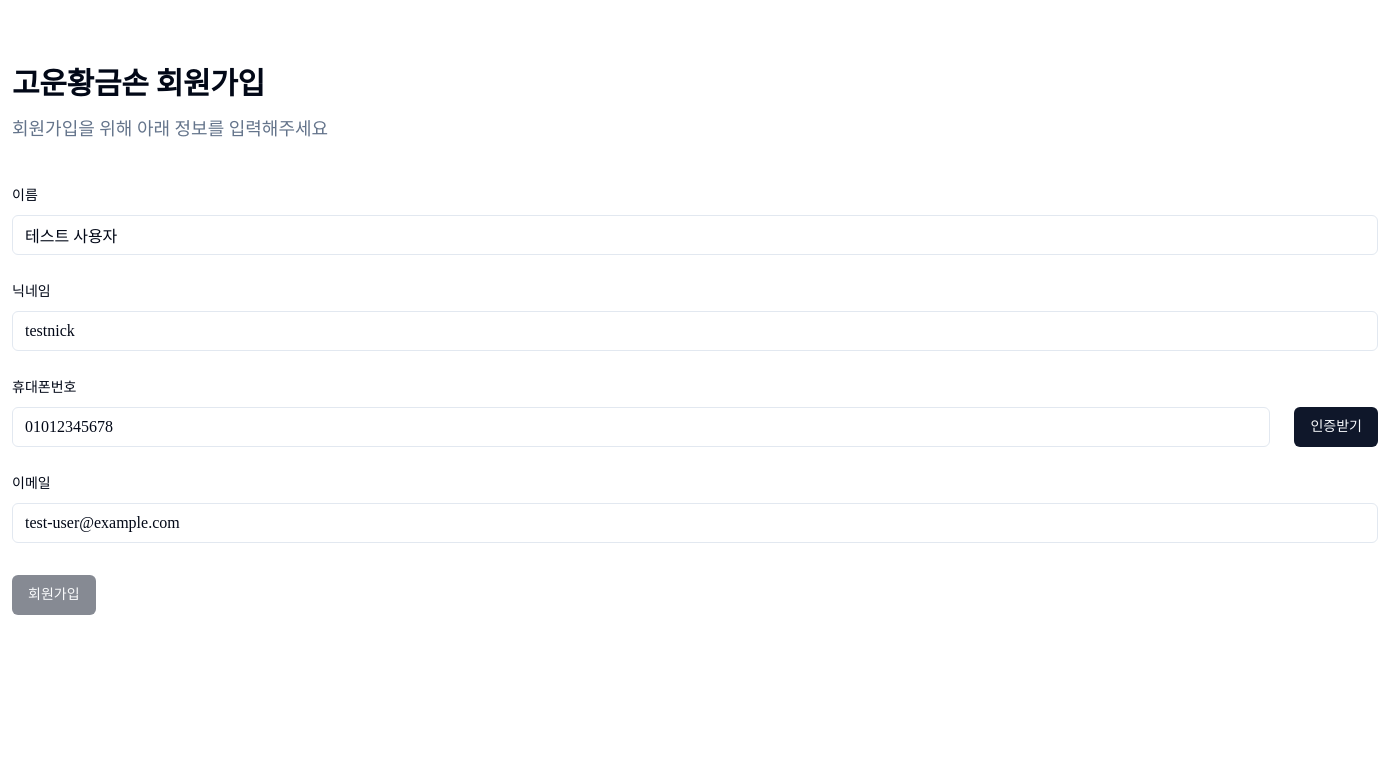
Scenario: SignupPage 컴포넌트 테스트 › [휴대폰인증] 인증코드가 6자리가 아닐 때 에러 메시지 노출
The width and height of the screenshot is (1390, 768).
Click the button "인증받기": click(1336, 427) [1294, 407, 1378, 447]
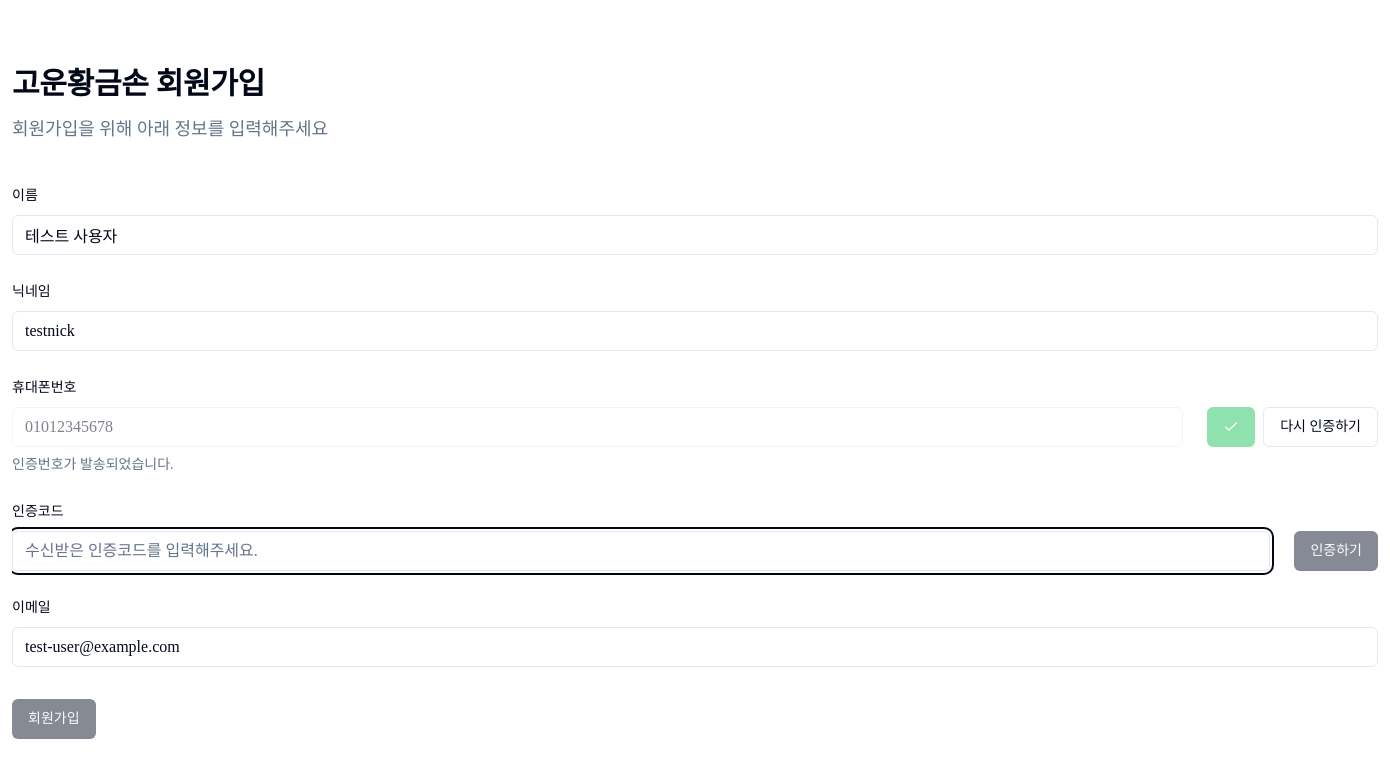
In the field labelled "인증코드": (641, 551) [12, 531, 1270, 571], type "12345"
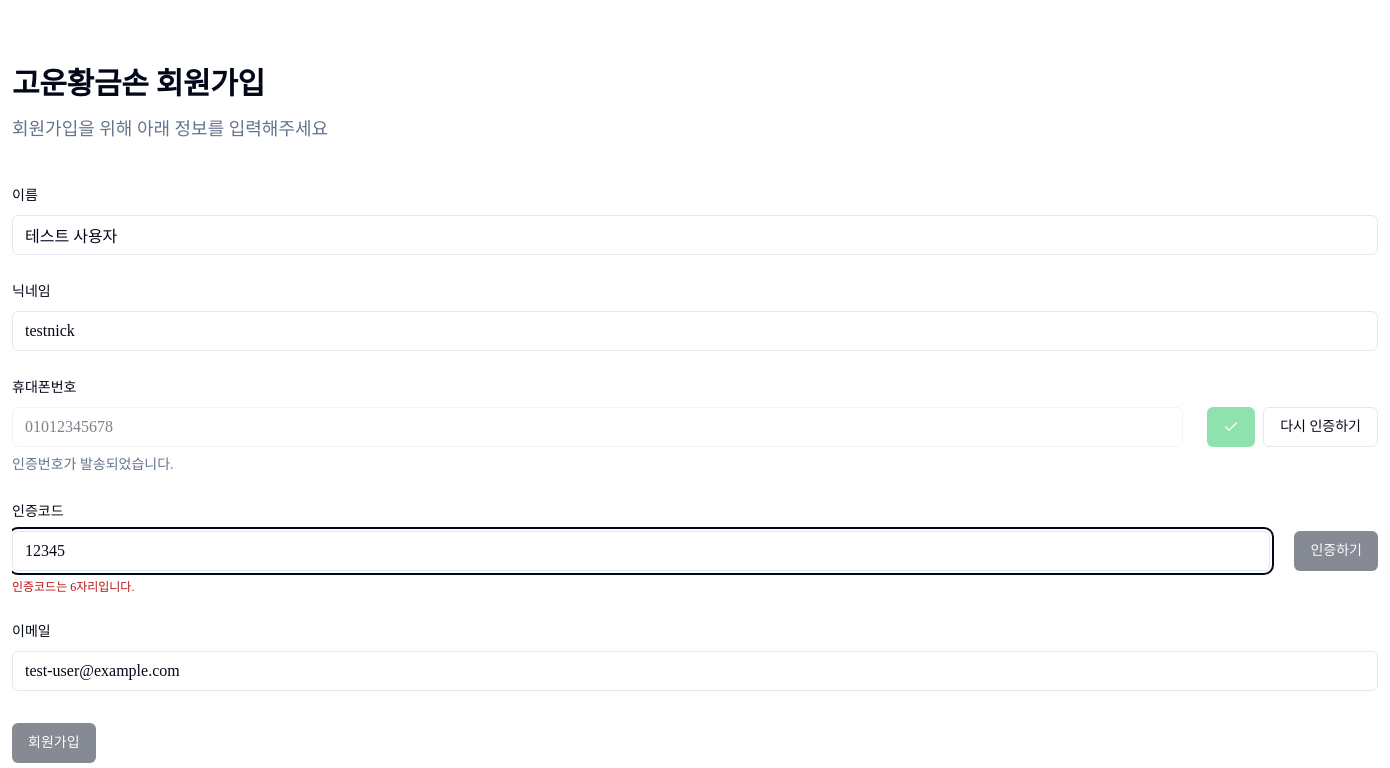
Now the text "인증코드는 6자리입니다." is shown, box [12, 580, 134, 594]
